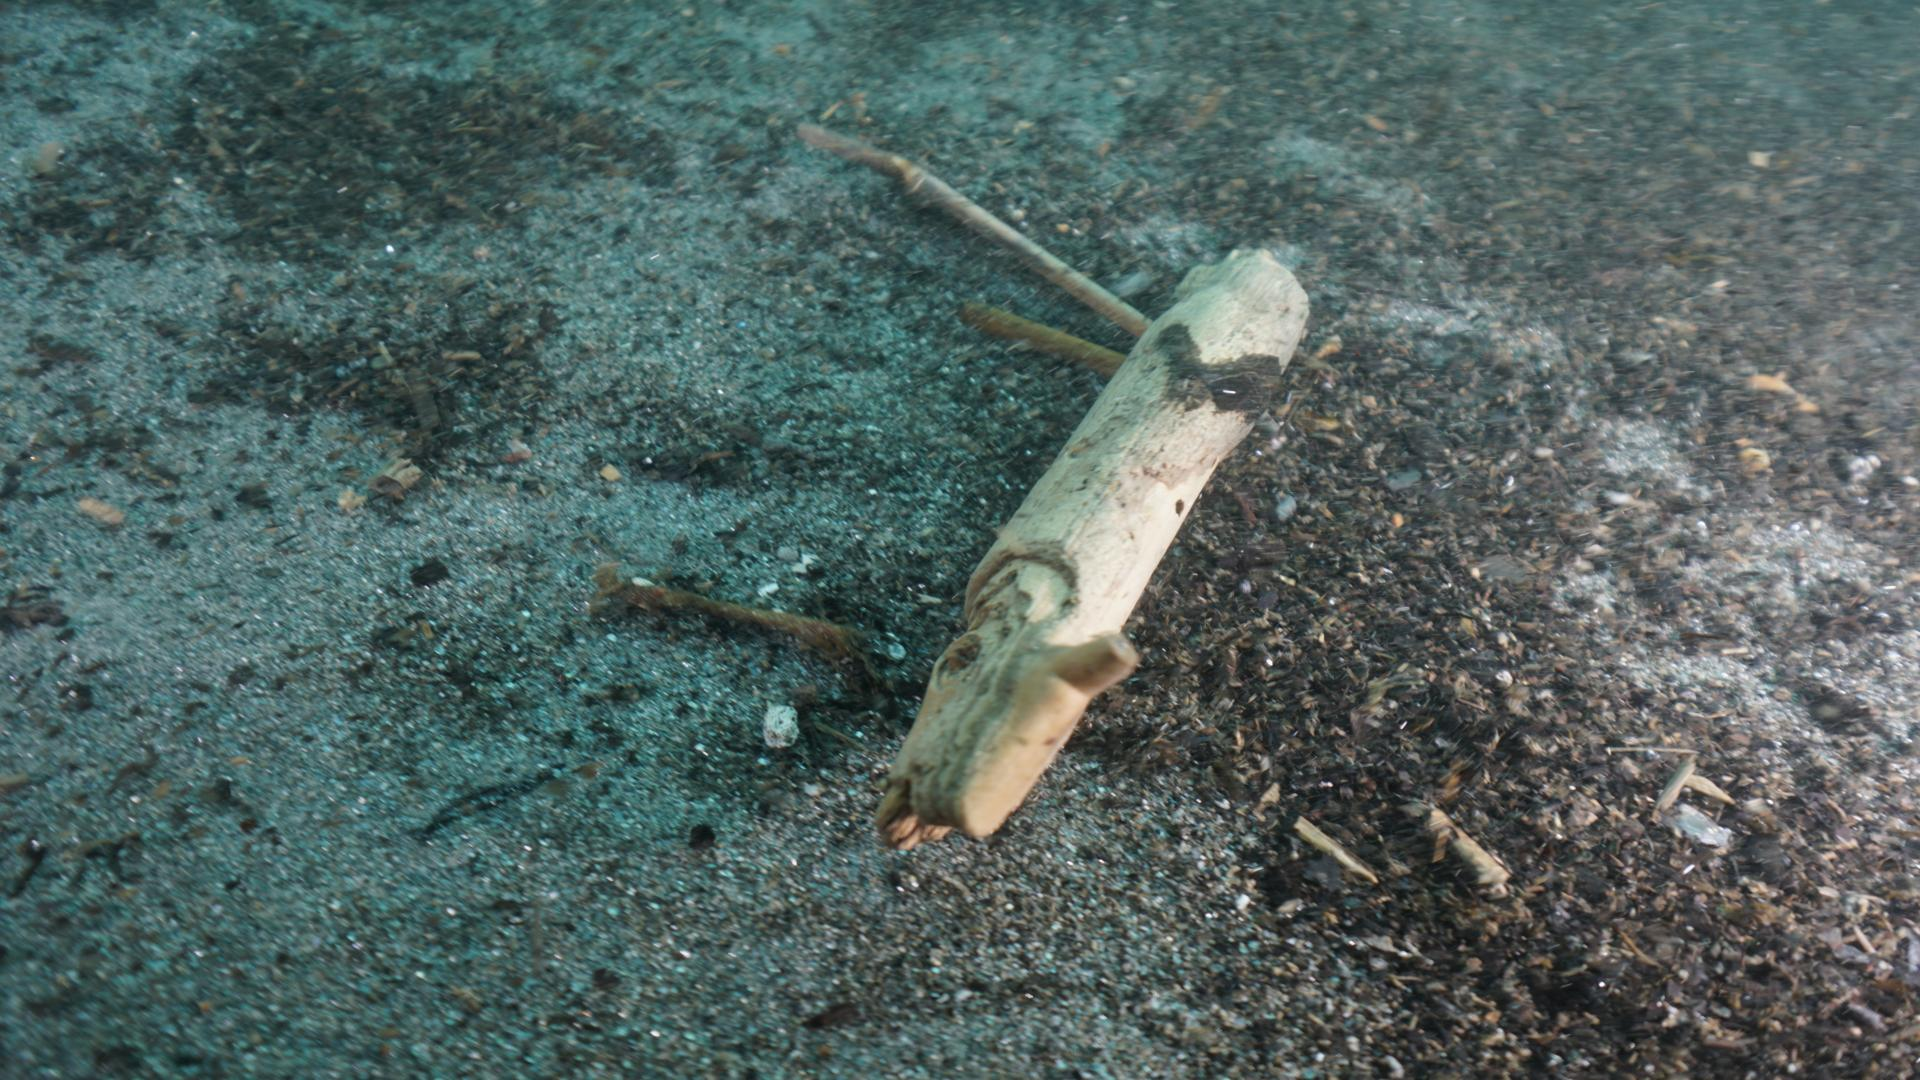wood: (873, 249, 1305, 855)
